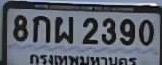0: (138, 18, 153, 45)
2: (82, 17, 96, 43)
3: (101, 17, 115, 44)
8: (12, 14, 27, 40)
9: (119, 18, 134, 44)
A01: (32, 15, 49, 42)
A28: (54, 16, 73, 42)
BKK: (28, 52, 140, 65)
